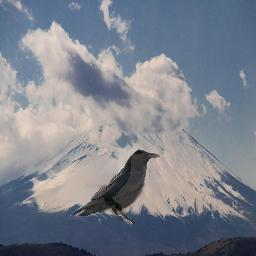Crow: (70, 149, 160, 224)
